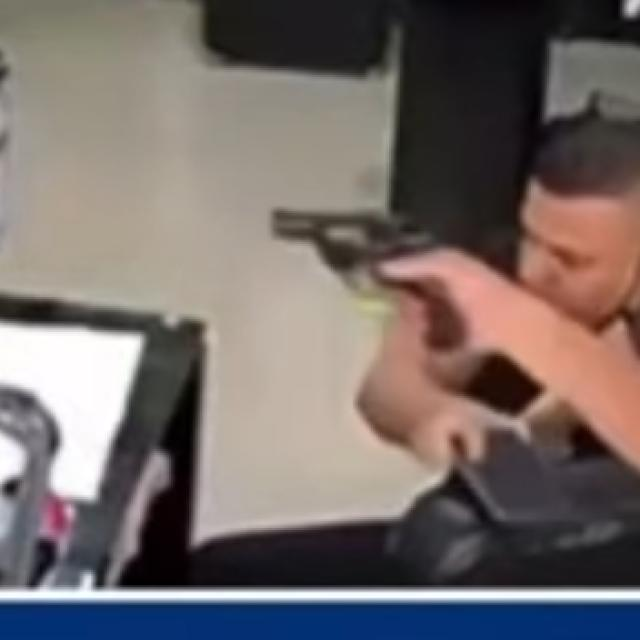Revolver: (264, 204, 474, 358)
